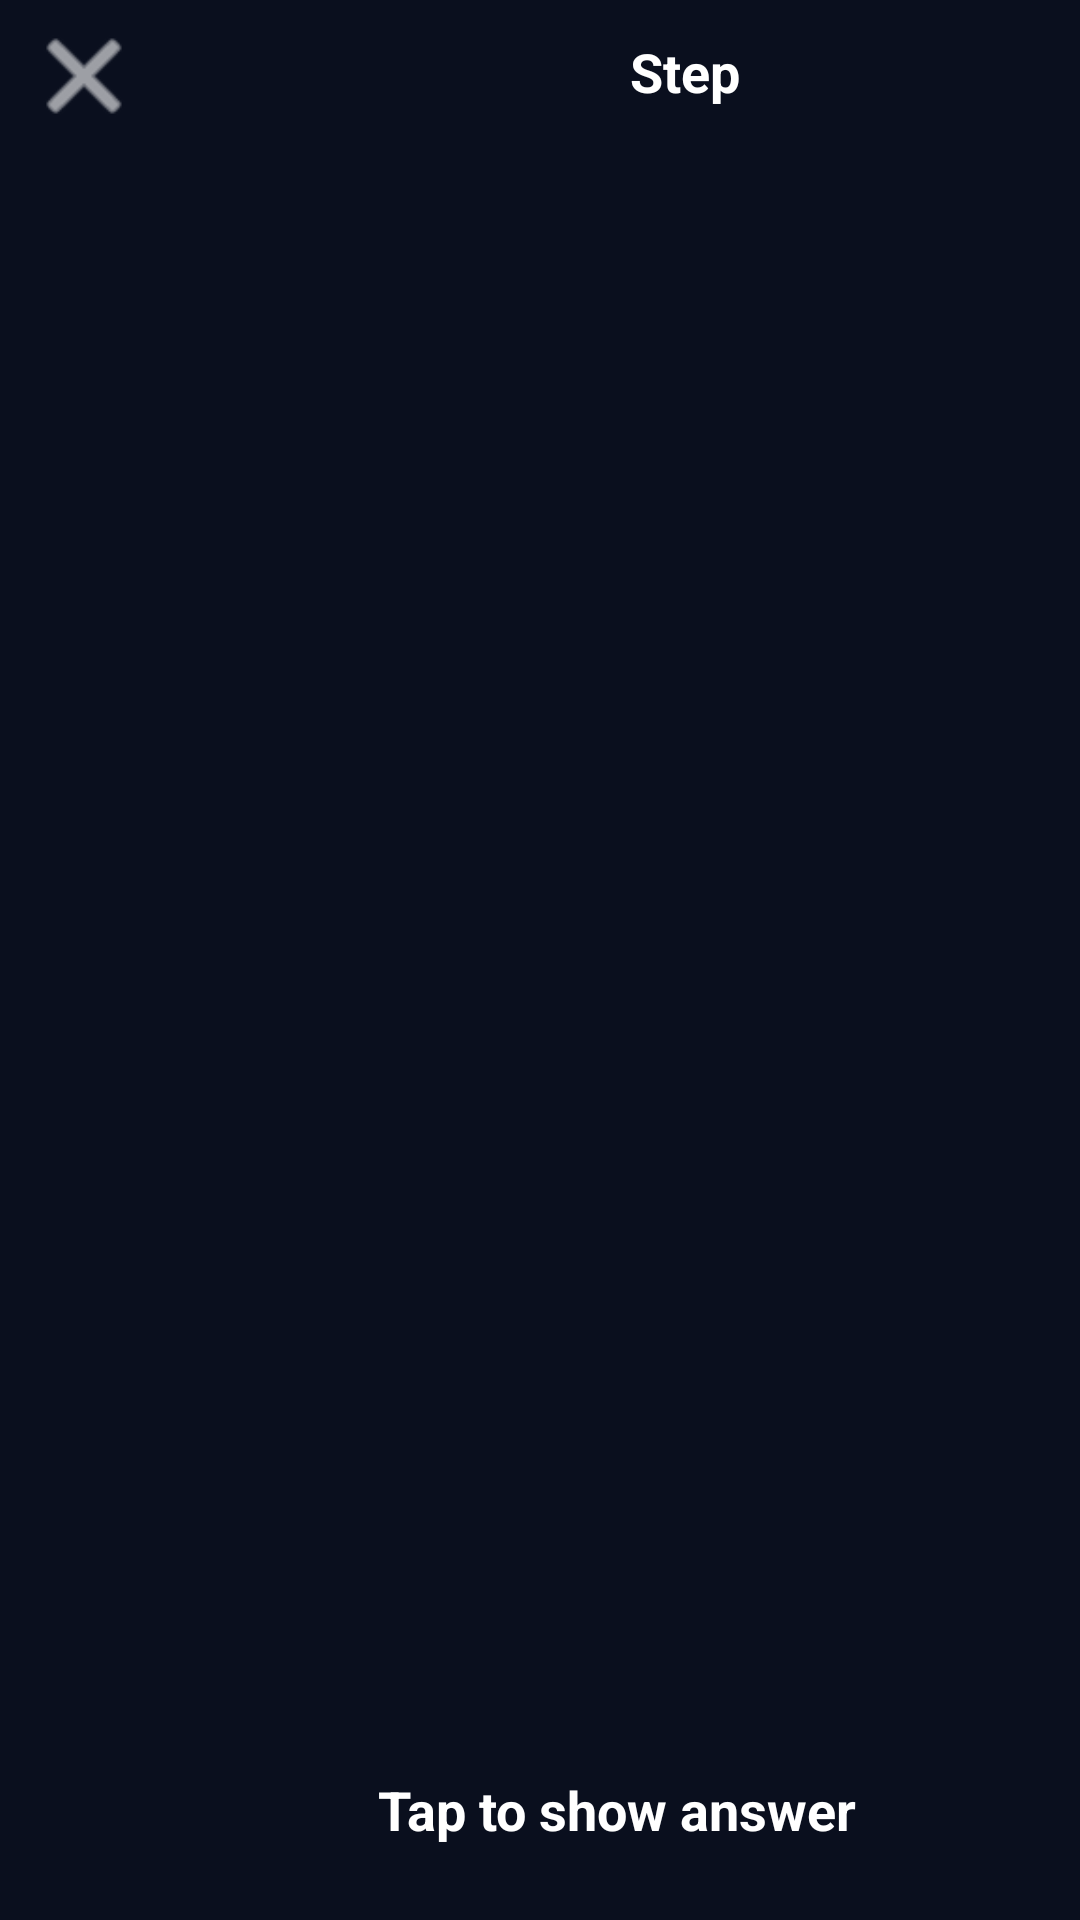

Named icons in this screenshot (1080*1920) and their centers, point (x, y):
close clear cancel: point (84, 76)
